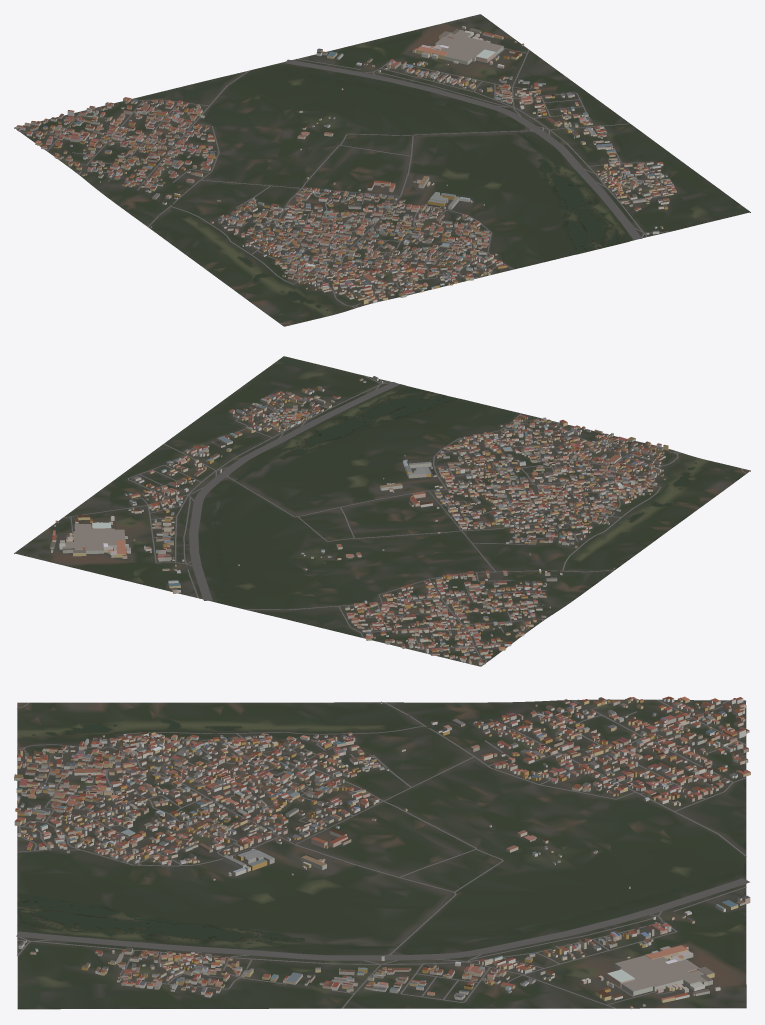
3 views of the same model, one above another, from view 1: azimuth 30°, elevation 25°; view 2: azimuth 150°, elevation 25°; view 3: azimuth 270°, elevation 25° (orthographic). The views are drawn at different scales.
Parts seen in each view (by area): view 1: ground, buildings, roads, water; view 2: ground, buildings, roads, water; view 3: ground, buildings, roads, water.
Part boxes in pixels (left/top/right/bottom): ground: left=14, top=14, right=750, bottom=326; buildings: left=16, top=26, right=676, bottom=304; roads: left=14, top=40, right=670, bottom=324; water: left=237, top=68, right=625, bottom=310; ground: left=14, top=356, right=750, bottom=666; buildings: left=50, top=376, right=668, bottom=665; roads: left=62, top=375, right=746, bottom=666; water: left=215, top=386, right=696, bottom=599; ground: left=17, top=699, right=746, bottom=1009; buildings: left=14, top=696, right=750, bottom=1009; roads: left=16, top=699, right=749, bottom=1008; water: left=18, top=719, right=731, bottom=947.
Bounding box in the file's own units: 1407 × 21.2 × 1417.
